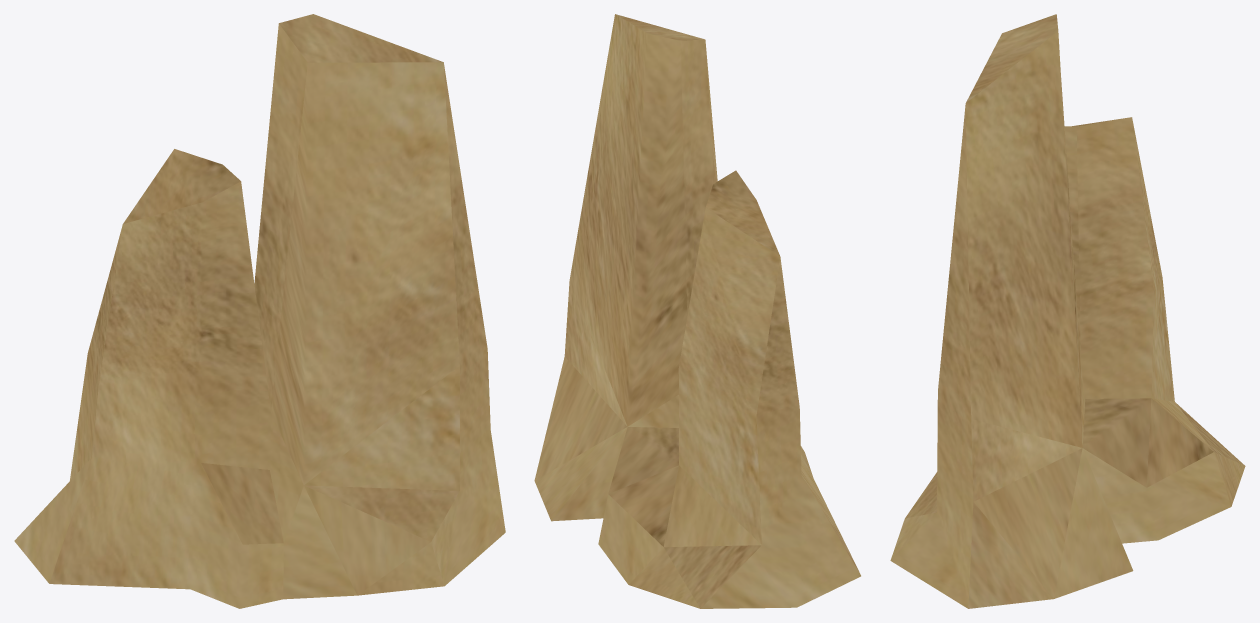
Rendered from rock_spire02_hdtex.glb.
The picture shows the model from 3 angles, left to right: view 1: azimuth 30°, elevation 25°; view 2: azimuth 150°, elevation 25°; view 3: azimuth 270°, elevation 25°; orthographic projection. The views are drawn at different scales.
Parts seen in each view (by area): view 1: Outcropping2; view 2: Outcropping2; view 3: Outcropping2.
Part boxes in pixels (left/top/right/bottom): Outcropping2: left=14, top=14, right=505, bottom=608; Outcropping2: left=534, top=14, right=860, bottom=608; Outcropping2: left=890, top=14, right=1245, bottom=608.
Bounding box in the file's own units: 17.16 × 21.6 × 13.67.
Materials: 1 (1 with a texture image).
